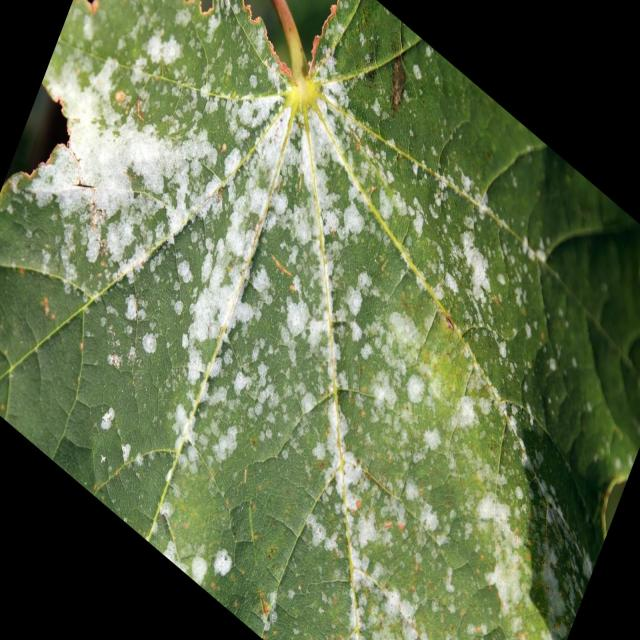Powdery Mildew: (1, 1, 636, 638)
